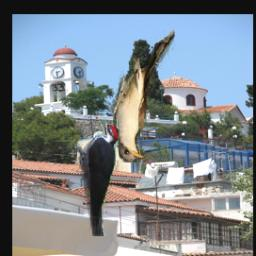Cuckoo: (113, 26, 175, 162)
Woodpecker: (75, 117, 125, 236)
